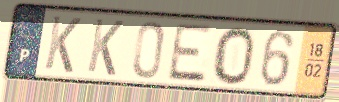0: (131, 20, 167, 81)
6: (259, 28, 296, 89)
E: (165, 22, 216, 85)
K: (84, 16, 126, 79), (42, 13, 83, 76)
O: (211, 25, 256, 87)
